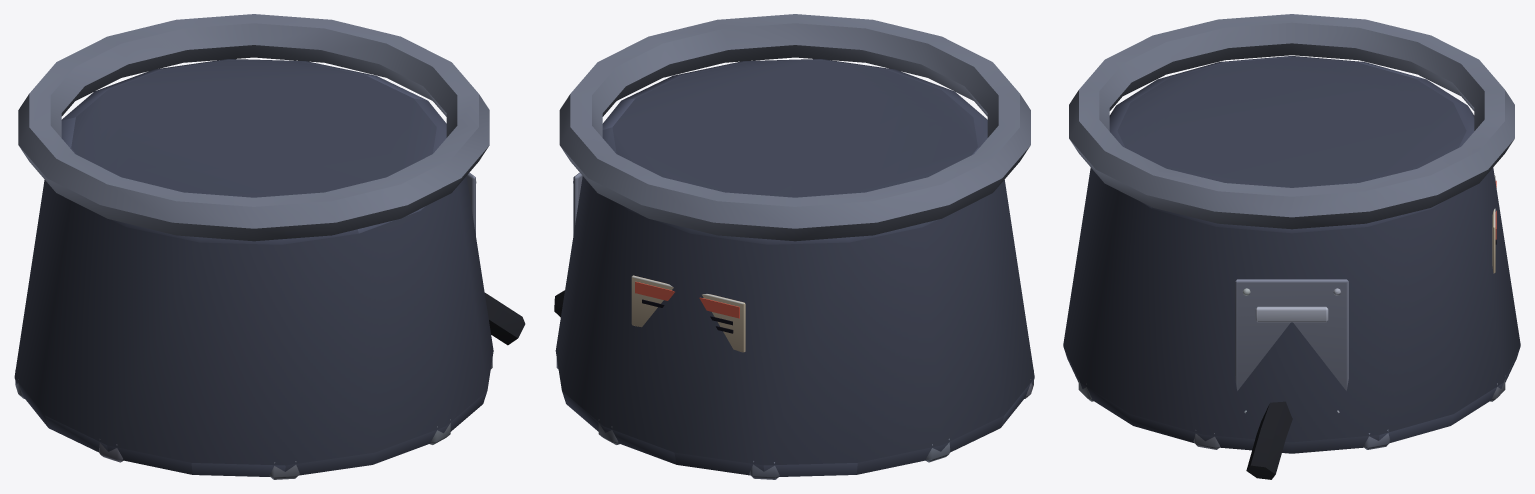
Rendered from SM_Cinema_SearchlightBase.fbx.
3 renders of one model, left to right at view 1: azimuth 30°, elevation 25°; view 2: azimuth 150°, elevation 25°; view 3: azimuth 270°, elevation 25°, orthographic. The views are drawn at different scales.
Parts seen in each view (by area): view 1: SM_Cinema_SearchlightBase; view 2: SM_Cinema_SearchlightBase; view 3: SM_Cinema_SearchlightBase.
Part boxes in pixels (box(x1,y1,x2,y2)): SM_Cinema_SearchlightBase: box(14, 14, 525, 479); SM_Cinema_SearchlightBase: box(554, 14, 1034, 479); SM_Cinema_SearchlightBase: box(1063, 14, 1520, 479).
Bounding box in the file's own units: 98.52 × 56.61 × 88.93.
